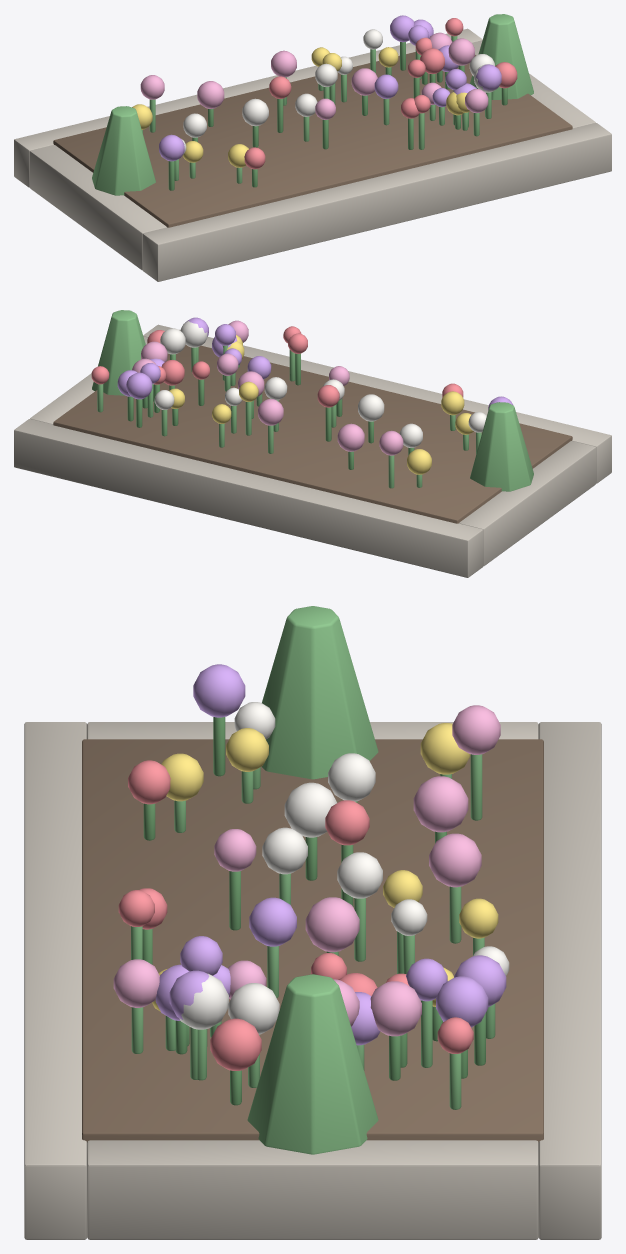
The model's file is th33_blumenrabatte.glb.
3 renders of one model, top to bottom at view 1: azimuth 30°, elevation 25°; view 2: azimuth 150°, elevation 25°; view 3: azimuth 270°, elevation 25°, orthographic. The views are drawn at different scales.
Parts seen in each view (by area): view 1: Cube.004, Cube, Cube.002, Cone, Cube.001, Cone.001, Cube.003, Sphere.045, Sphere.027, Sphere.004, Sphere.007, Sphere.003 (+14 smaller); view 2: Cube.004, Cube.001, Cube.002, Cube, Cone, Cone.001, Cube.003, Sphere.045, Sphere.027, Sphere.025, Sphere.003, Sphere.012 (+12 smaller); view 3: Cube.004, Cube.003, Cube, Cube.001, Cone.001, Cone, Cube.002, Sphere.045, Sphere.007, Sphere.013, Sphere.003, Sphere.034 (+31 smaller).
Boxes of the visible parts, box(x1,y1,x2,y2) form: Cube.004: box(53, 52, 572, 227); Cube: box(142, 123, 611, 281); Cube.002: box(29, 145, 166, 270); Cone: box(92, 106, 155, 195); Cube.001: box(14, 28, 482, 187); Cone.001: box(470, 14, 533, 99); Cube.003: box(472, 40, 595, 128); Sphere.045: box(197, 81, 224, 108); Sphere.027: box(242, 98, 268, 126); Sphere.004: box(448, 38, 474, 65); Sphere.007: box(351, 68, 377, 95); Sphere.003: box(271, 50, 296, 77); Cube.004: box(53, 344, 572, 523); Cube.001: box(14, 419, 483, 577); Cube.002: box(459, 441, 596, 566); Cube: box(143, 324, 611, 483); Cone: box(470, 402, 533, 491); Cone.001: box(92, 310, 145, 395); Cube.003: box(30, 336, 147, 424); Sphere.045: box(337, 423, 364, 451); Sphere.027: box(358, 394, 384, 421); Sphere.025: box(126, 372, 152, 399); Sphere.003: box(258, 399, 283, 425); Sphere.012: box(407, 449, 431, 474); Cube.004: box(82, 739, 543, 1142); Cube.003: box(87, 1140, 538, 1239); Cube: box(24, 722, 87, 1239); Cube.001: box(538, 722, 601, 1239); Cone.001: box(247, 974, 378, 1154); Cone: box(261, 606, 378, 779); Cube.002: box(87, 722, 538, 739); Sphere.045: box(413, 776, 468, 832); Sphere.007: box(305, 897, 359, 952); Sphere.013: box(370, 981, 421, 1036); Sphere.003: box(429, 833, 481, 887); Sphere.034: box(193, 664, 245, 717).
Bounding box in the file's own units: 4 × 0.92 × 2.2.
